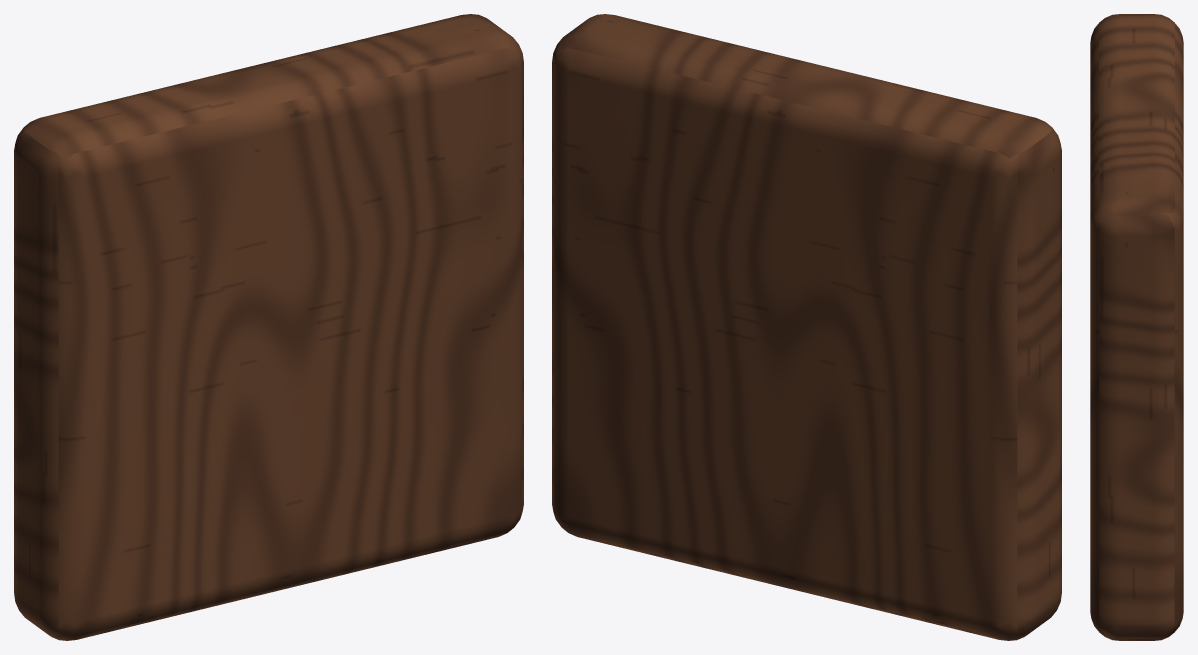
File: lock_plinth.obj
3 views of the same model, side by side, from view 1: azimuth 30°, elevation 25°; view 2: azimuth 150°, elevation 25°; view 3: azimuth 270°, elevation 25° (orthographic). The views are drawn at different scales.
Visible parts, largest first — view 1: lock_plinth; view 2: lock_plinth; view 3: lock_plinth.
Part boxes in pixels (bbox=[...]): lock_plinth: bbox=[14, 14, 523, 640]; lock_plinth: bbox=[552, 14, 1061, 640]; lock_plinth: bbox=[1090, 14, 1183, 640].
Bounding box in the file's own units: 0.13 × 0.13 × 0.025.
1 material, 1 textured.
